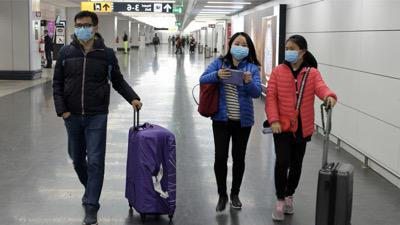with_mask: (74, 21, 94, 42), (229, 41, 249, 61), (284, 44, 301, 64), (43, 32, 46, 38), (154, 34, 157, 37), (181, 36, 183, 39), (182, 37, 184, 39), (192, 38, 193, 40), (173, 35, 174, 37), (169, 36, 170, 38)
without_mask: (123, 32, 125, 35)
